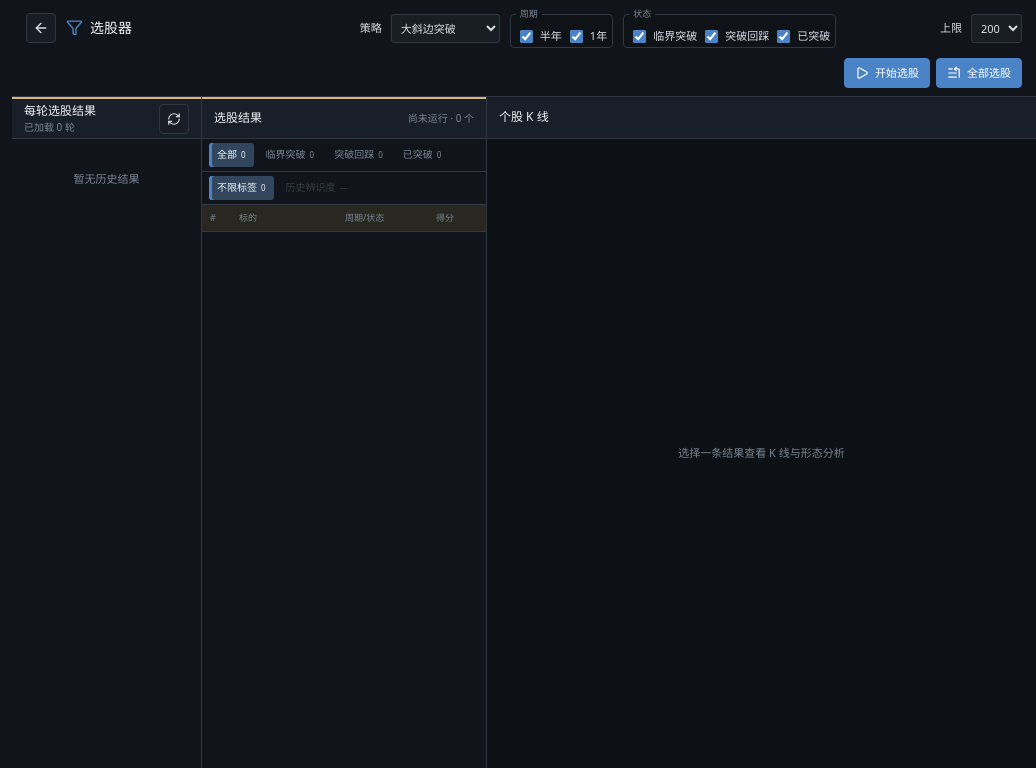
Test: ScreenerWorkspace › submits all strategies once and immediately shows pending and independent runs
Step 1. Select "50" in the dropdown labelled "上限" → coordinates (996, 28), box x1=971 y1=14 x2=1022 y2=42
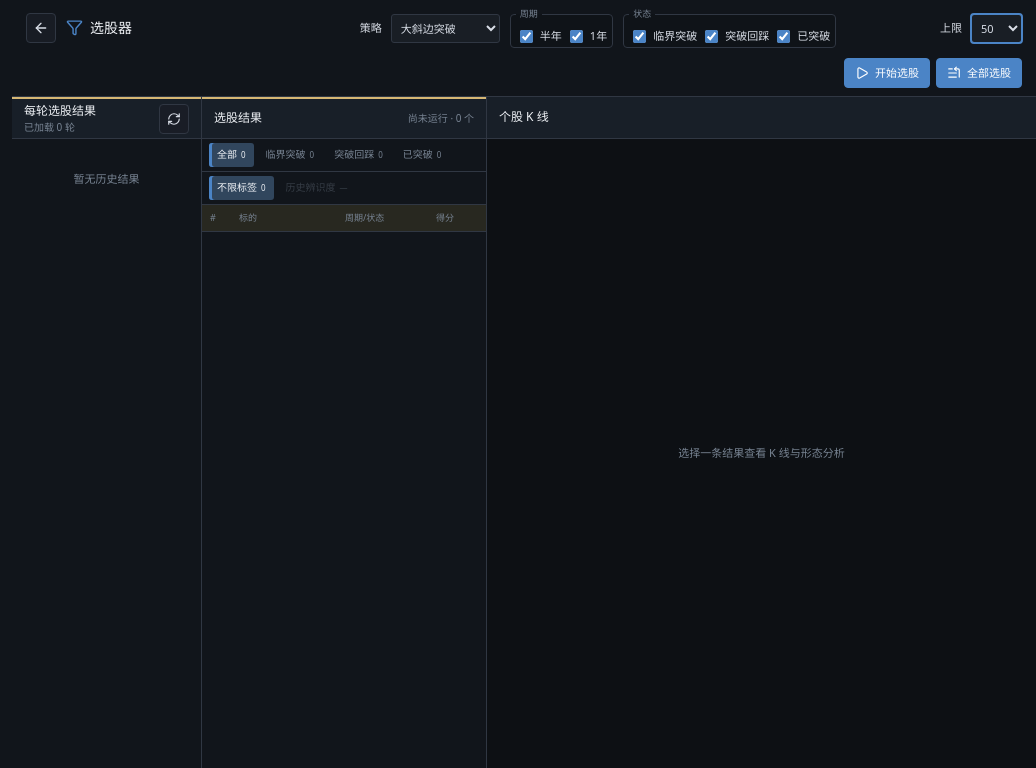
Step 2. Click the button "全部选股" → coordinates (979, 73), box x1=936 y1=58 x2=1022 y2=88
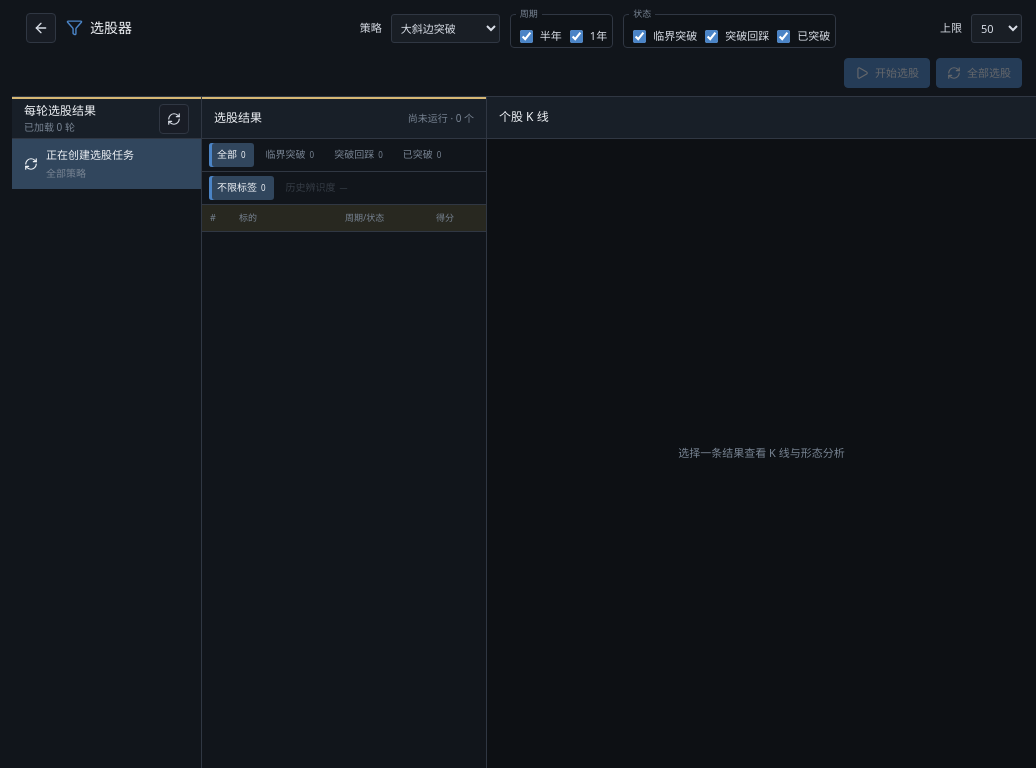
Check: the message shows "全部策略", box x1=46 y1=166 x2=86 y2=180
Check: the button "开始选股" is disabled, box x1=844 y1=58 x2=930 y2=88
Step 3. Click the button "全部选股" → coordinates (979, 73), box x1=936 y1=58 x2=1022 y2=88
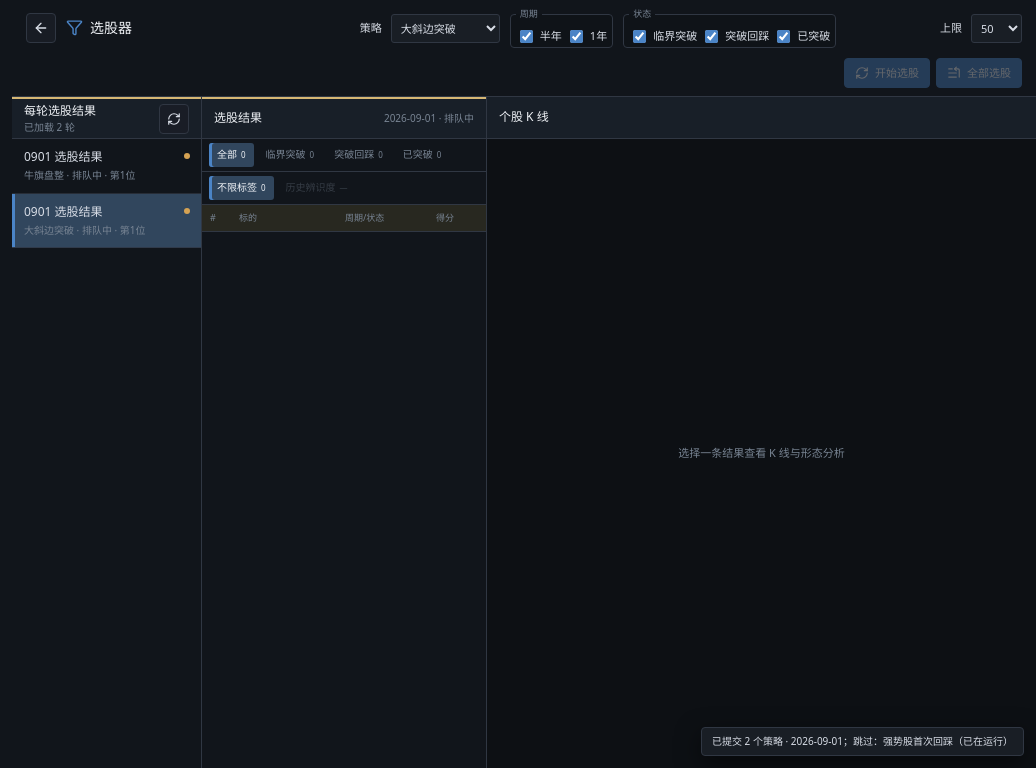
Check: the message "正在创建选股任务 全部策略" is gone
Check: the button "已提交 2 个策略 · 2026-09-01；跳过：强势股首次回踩（已在运行）" is shown, box x1=701 y1=726 x2=1024 y2=756
Check: the text "牛旗盘整 · 排队中 · 第1位" is shown, box x1=24 y1=168 x2=136 y2=182
